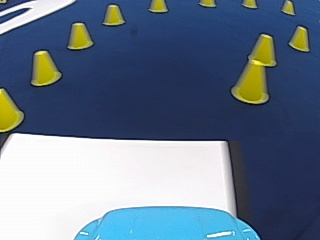cone: (230, 49, 271, 102), (29, 49, 61, 85), (0, 87, 24, 131), (248, 33, 277, 66), (66, 22, 93, 50), (288, 25, 309, 51), (102, 4, 124, 26), (149, 0, 166, 12), (281, 0, 294, 15), (243, 0, 256, 8)
